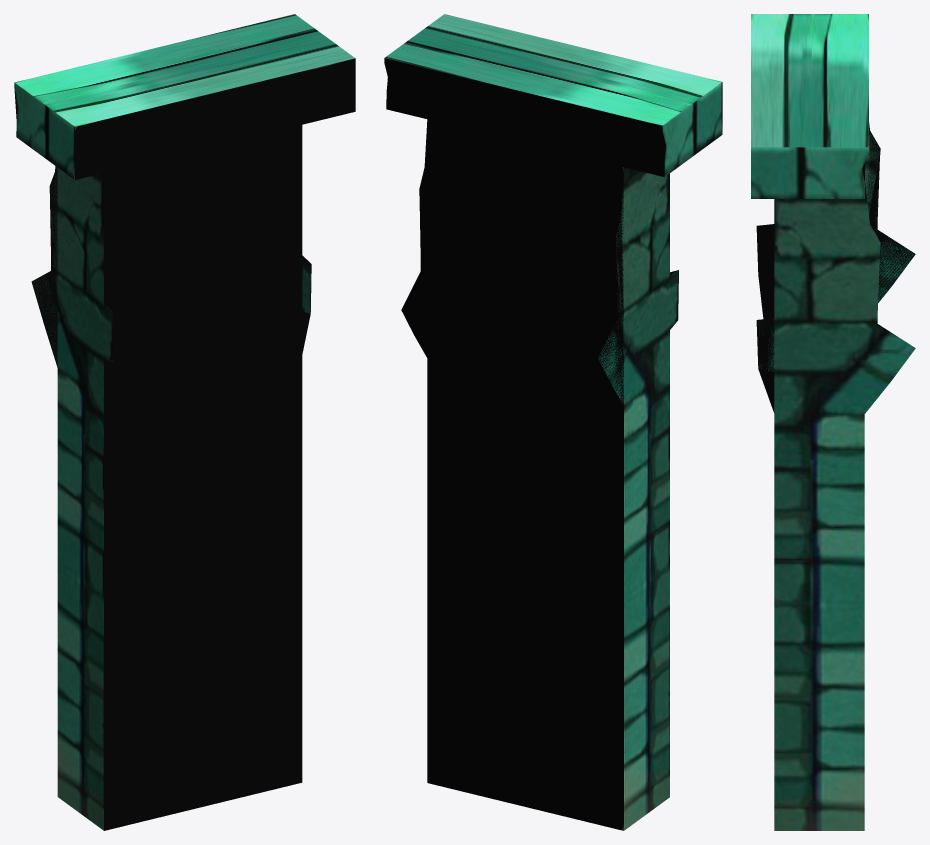
Rendered from Puente3.FBX.
The picture shows the model from 3 angles, left to right: view 1: azimuth 30°, elevation 25°; view 2: azimuth 150°, elevation 25°; view 3: azimuth 270°, elevation 25°; orthographic projection. The views are drawn at different scales.
Visible parts, largest first — view 1: pCube3; view 2: pCube3; view 3: pCube3.
Part boxes in pixels (<box>): pCube3: <box>14,14,355,830</box>; pCube3: <box>384,14,722,830</box>; pCube3: <box>751,14,915,830</box>.
Size of the model in its own units: 5.32 by 13.1 by 2.78.
